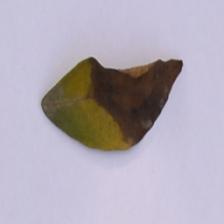black spot: (92, 53, 182, 138)
